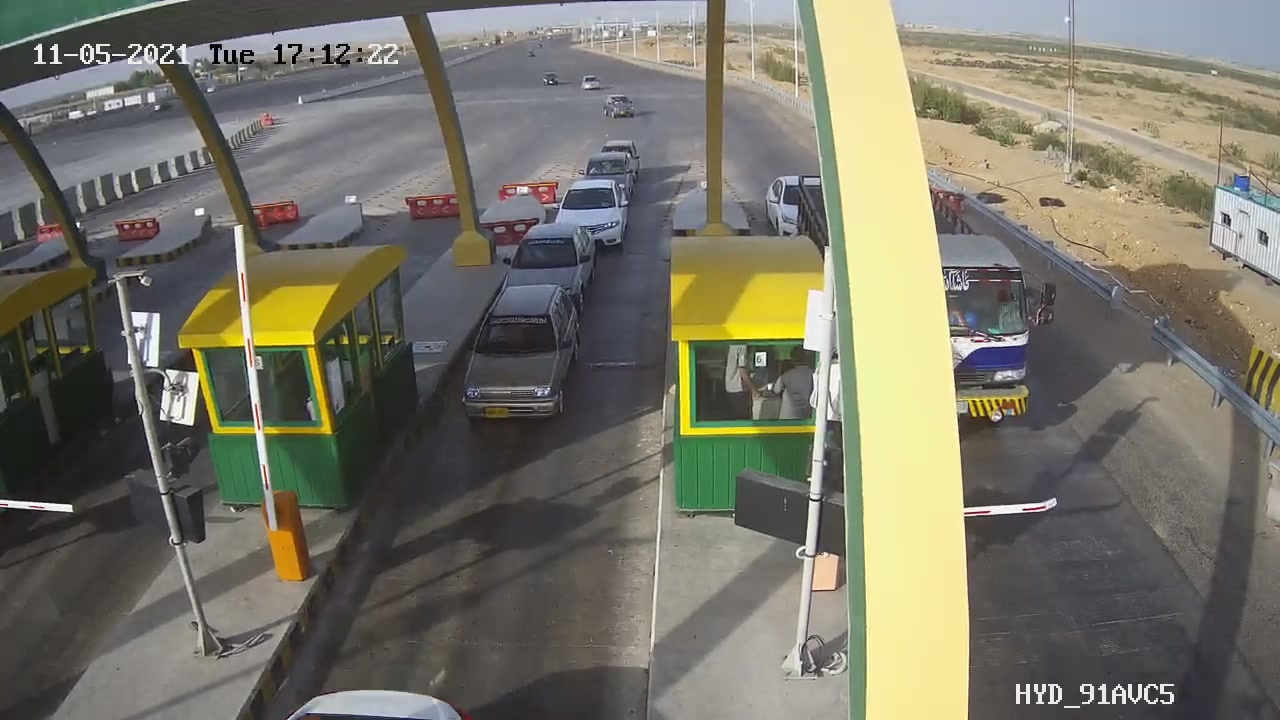F1: (446, 277, 600, 440)
